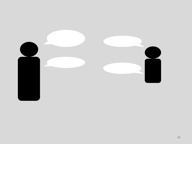left_speech: (42, 27, 87, 51), (42, 53, 87, 71)
right_speech: (99, 58, 144, 78), (101, 30, 145, 49)
